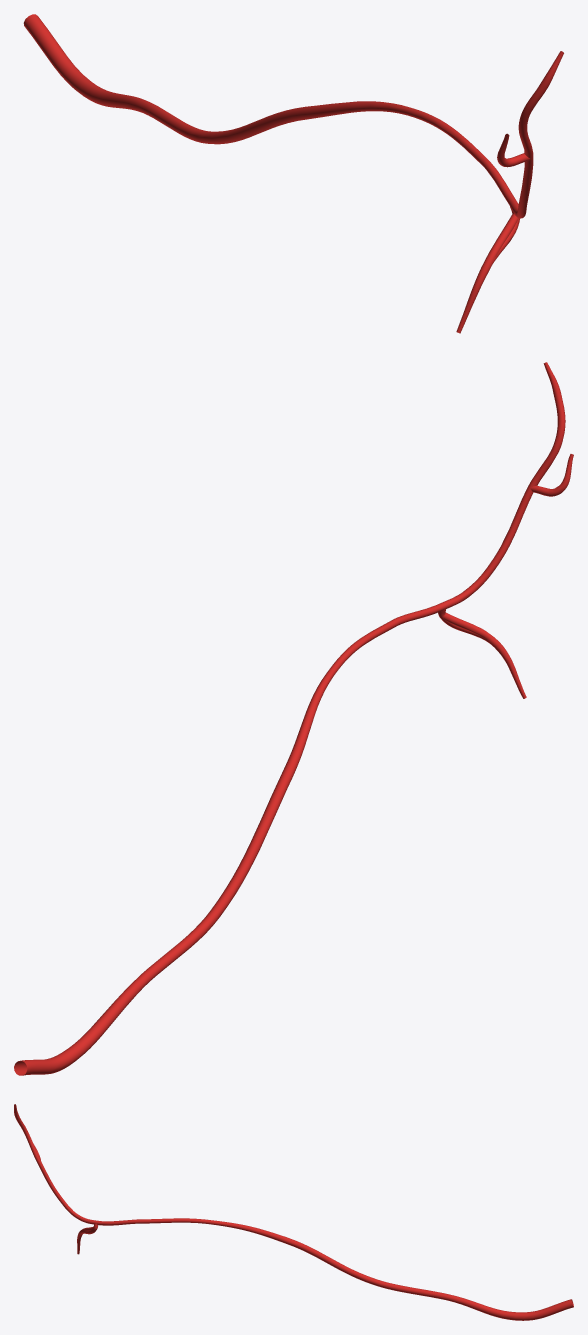
The model's file is circulatorio-supratrochlear-artery-l.glb.
3 views of the same model, one above another, from view 1: azimuth 30°, elevation 25°; view 2: azimuth 150°, elevation 25°; view 3: azimuth 270°, elevation 25° (orthographic). The views are drawn at different scales.
Visible parts, largest first — view 1: Supratrochlear artery.l; view 2: Supratrochlear artery.l; view 3: Supratrochlear artery.l.
Part boxes in pixels (bbox=[...]): Supratrochlear artery.l: bbox=[23, 14, 563, 333]; Supratrochlear artery.l: bbox=[14, 362, 573, 1075]; Supratrochlear artery.l: bbox=[14, 1104, 573, 1320].
Bounding box in the file's own units: 0.00525 × 0.0216 × 0.0524.
